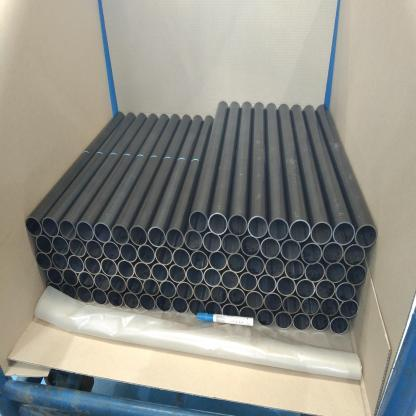pipe: (332, 221, 356, 245), (354, 224, 378, 248), (310, 221, 333, 245), (288, 220, 312, 242), (322, 241, 344, 265), (300, 241, 322, 265), (342, 244, 366, 266), (280, 238, 302, 261), (264, 256, 286, 279), (268, 218, 290, 240), (284, 258, 306, 280), (304, 261, 326, 283), (324, 262, 346, 284), (345, 264, 367, 286), (220, 232, 241, 255), (260, 236, 280, 260), (227, 214, 248, 236), (226, 252, 247, 274), (245, 254, 266, 276), (314, 279, 336, 300), (189, 210, 209, 233), (208, 212, 228, 235), (240, 234, 260, 257), (335, 281, 356, 302), (248, 216, 268, 238), (276, 276, 296, 298), (339, 298, 359, 320), (295, 278, 315, 299), (263, 292, 283, 313), (282, 294, 302, 315), (320, 297, 340, 318), (110, 224, 129, 246), (165, 228, 184, 250), (202, 231, 221, 253), (209, 250, 228, 272), (190, 250, 210, 270), (238, 272, 258, 292), (257, 274, 277, 294), (300, 296, 320, 316), (330, 315, 350, 335), (129, 225, 148, 246), (147, 226, 166, 247), (202, 267, 221, 288), (42, 216, 60, 238), (184, 229, 202, 251), (85, 238, 103, 260), (155, 244, 173, 266), (172, 246, 190, 268), (134, 260, 152, 282), (137, 244, 156, 264), (245, 290, 264, 310), (256, 308, 275, 328), (311, 312, 330, 332), (58, 219, 76, 240), (76, 221, 94, 242), (94, 222, 112, 243), (102, 240, 120, 261), (120, 242, 138, 263), (220, 269, 238, 290), (52, 235, 70, 255), (100, 257, 118, 277), (168, 264, 186, 284), (186, 266, 204, 286), (109, 274, 127, 294), (159, 280, 177, 300), (210, 284, 228, 304), (228, 287, 246, 307), (274, 310, 292, 330), (25, 216, 42, 237), (69, 237, 86, 258), (151, 262, 168, 283), (126, 276, 144, 295), (176, 281, 194, 300), (193, 283, 211, 302), (238, 304, 256, 323), (292, 312, 310, 331), (36, 234, 53, 254), (67, 254, 84, 274), (84, 256, 101, 276), (117, 259, 134, 279), (93, 272, 110, 292), (60, 282, 78, 300), (122, 292, 140, 310), (51, 252, 68, 271), (143, 278, 160, 297), (62, 268, 79, 286), (107, 290, 124, 308), (139, 293, 156, 311), (155, 294, 172, 312), (188, 298, 205, 316), (78, 270, 94, 289), (76, 285, 92, 304), (221, 302, 240, 318), (36, 252, 52, 270), (47, 267, 63, 285), (92, 288, 108, 306), (172, 296, 188, 314), (204, 300, 222, 316)
